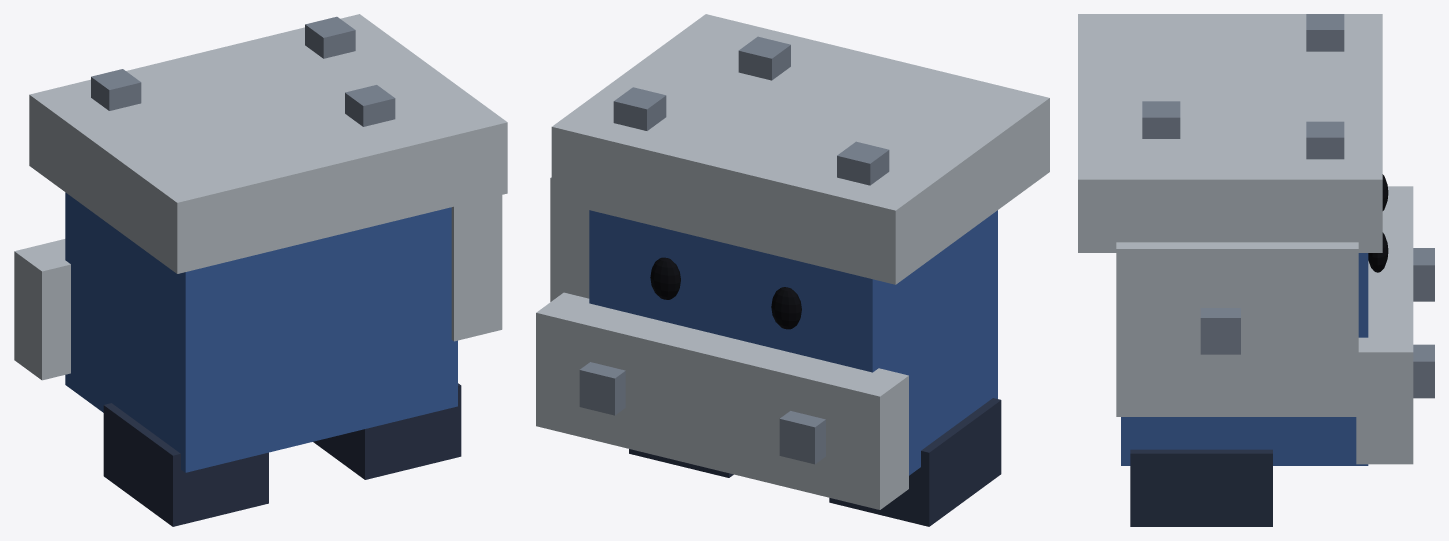
The model's file is Shellback_Block.gltf.
3 views of the same model, side by side, from view 1: azimuth 30°, elevation 25°; view 2: azimuth 150°, elevation 25°; view 3: azimuth 270°, elevation 25° (orthographic). The views are drawn at different scales.
Visible parts, largest first — view 1: ArmorTop, SlateCore, FootLeft, ArmorFrontLower, ArmorSideRight, FootRight, RivetTopRear, RivetTopLeft, RivetTopRight; view 2: ArmorTop, ArmorFrontLower, SlateCore, FootLeft, ArmorSideRight, RivetFrontLeft, RivetFrontRight, RivetTopRight, RivetTopRear, RivetTopLeft, EyeRight, EyeLeft; view 3: ArmorTop, ArmorSideRight, ArmorFrontLower, FootRight, SlateCore, RivetSide, RivetTopRight, RivetTopLeft, RivetTopRear, RivetFrontRight, RivetFrontLeft, EyeRight.
Part boxes in pixels (x1,y1,x2,y2): ArmorTop: (29, 14, 507, 273); SlateCore: (65, 192, 457, 472); FootLeft: (103, 403, 268, 526); ArmorFrontLower: (14, 239, 70, 380); ArmorSideRight: (451, 195, 502, 341); FootRight: (313, 383, 461, 479); RivetTopRear: (345, 85, 395, 126); RivetTopLeft: (91, 69, 141, 110); RivetTopRight: (305, 16, 355, 58); ArmorTop: (551, 14, 1049, 284); ArmorFrontLower: (536, 292, 908, 509); SlateCore: (589, 210, 997, 475); FootLeft: (829, 398, 1001, 526); ArmorSideRight: (550, 177, 589, 301); RivetFrontLeft: (779, 411, 825, 464); RivetFrontRight: (579, 362, 625, 415); RivetTopRight: (613, 87, 666, 130); RivetTopRear: (738, 36, 790, 80); RivetTopLeft: (837, 141, 889, 185); EyeRight: (650, 257, 680, 299); EyeLeft: (771, 287, 801, 329); ArmorTop: (1078, 14, 1382, 252); ArmorSideRight: (1116, 242, 1358, 416); ArmorFrontLower: (1356, 186, 1413, 464); FootRight: (1130, 449, 1272, 526); SlateCore: (1121, 253, 1368, 465); RivetSide: (1200, 308, 1240, 354); RivetTopRight: (1306, 121, 1344, 159); RivetTopLeft: (1306, 14, 1344, 51); RivetTopRear: (1142, 101, 1180, 138); RivetFrontRight: (1413, 344, 1434, 398); RivetFrontLeft: (1413, 248, 1434, 301); EyeRight: (1368, 232, 1388, 272).
Size of the model in its own units: 1.81 by 1.76 by 1.5.
